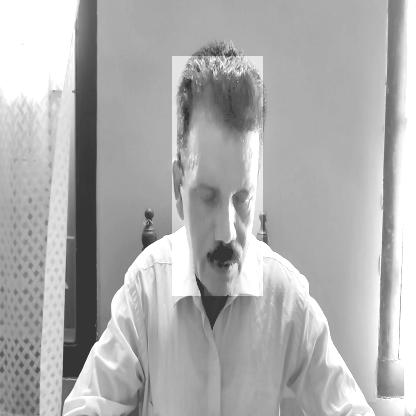Normal: (172, 56, 263, 296)
